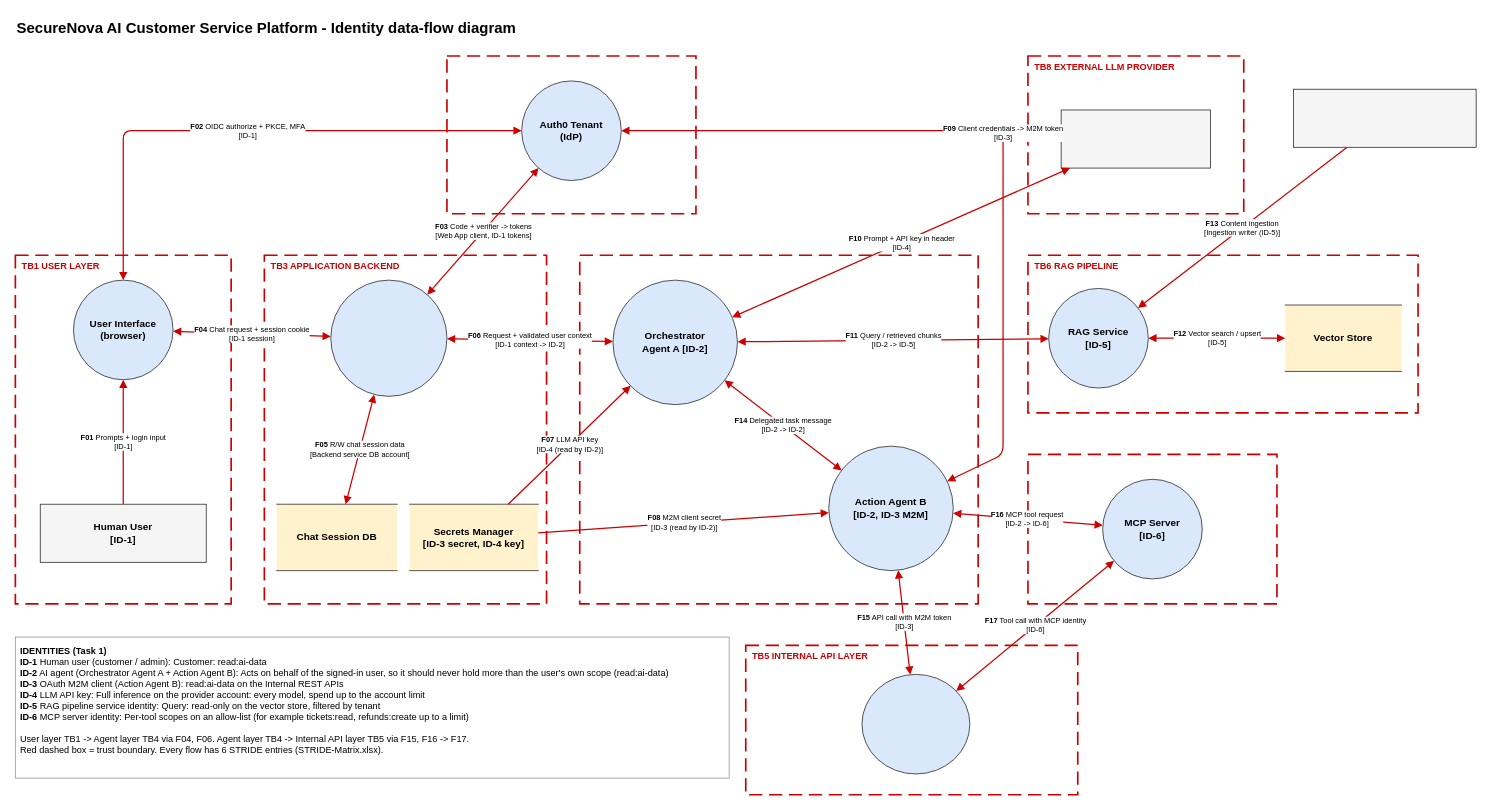
This 1491x809 diagram has some shape labels left out. Each missing label, with the box of its shape:
Chatbot Backend (Web App client): (330, 279, 447, 396)
Internal REST APIs: (861, 674, 970, 774)
KB Content Sources (articles, tickets, uploads): (1293, 88, 1476, 147)
LLM Provider [ID-4 key]: (1060, 109, 1211, 168)
TB2 IDENTITY PROVIDER (Auth0): (446, 55, 696, 214)
TB4 AGENT LAYER: (579, 254, 979, 604)
TB7 MCP TOOL LAYER: (1027, 453, 1277, 604)
